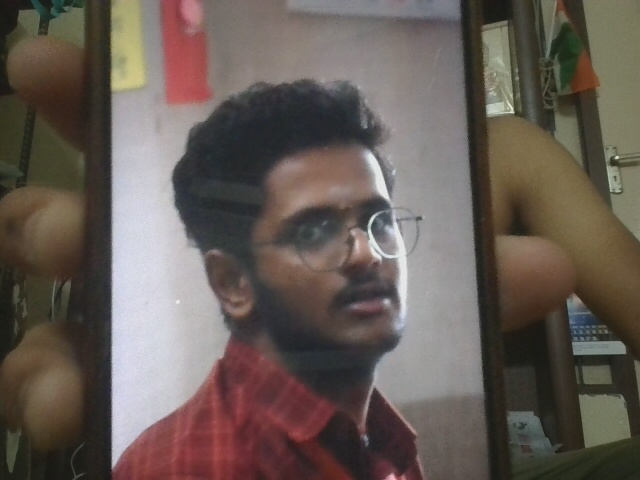fake: (242, 133, 473, 364)
